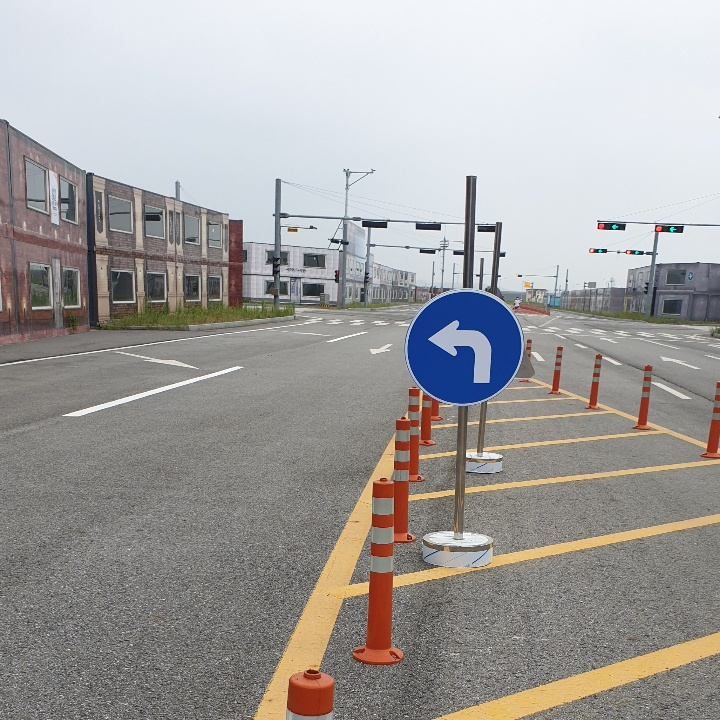left: (423, 315, 502, 392)
